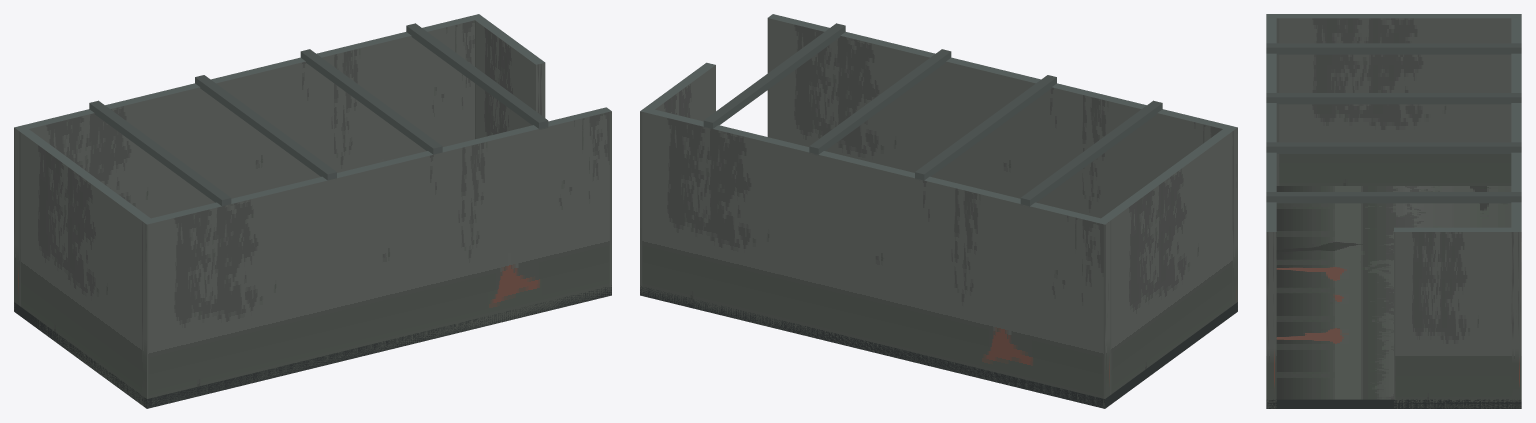
The model's file is Building_AncientOpenContainer.glb.
3 views of the same model, side by side, from view 1: azimuth 30°, elevation 25°; view 2: azimuth 150°, elevation 25°; view 3: azimuth 270°, elevation 25° (orthographic). The views are drawn at different scales.
Visible parts, largest first — view 1: AncientOpenContainer; view 2: AncientOpenContainer; view 3: AncientOpenContainer.
Part boxes in pixels (x1,y1,x2,y2): AncientOpenContainer: [14, 14, 611, 408]; AncientOpenContainer: [640, 14, 1237, 408]; AncientOpenContainer: [1266, 14, 1521, 408].
Bounding box in the file's own units: 3.96 × 1.55 × 1.96.
1 material, 1 textured.
